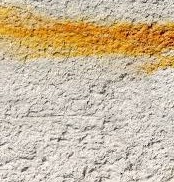Corrosion: (1, 4, 174, 57), (136, 57, 174, 77)
